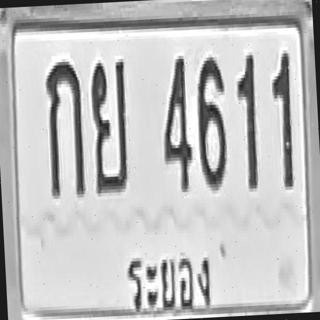A01: (44, 58, 86, 199)
A34: (89, 57, 131, 195)
N01: (270, 52, 296, 189), (235, 54, 260, 190)
N04: (158, 52, 194, 193)
N06: (194, 54, 229, 191)
P53: (123, 244, 218, 316)
